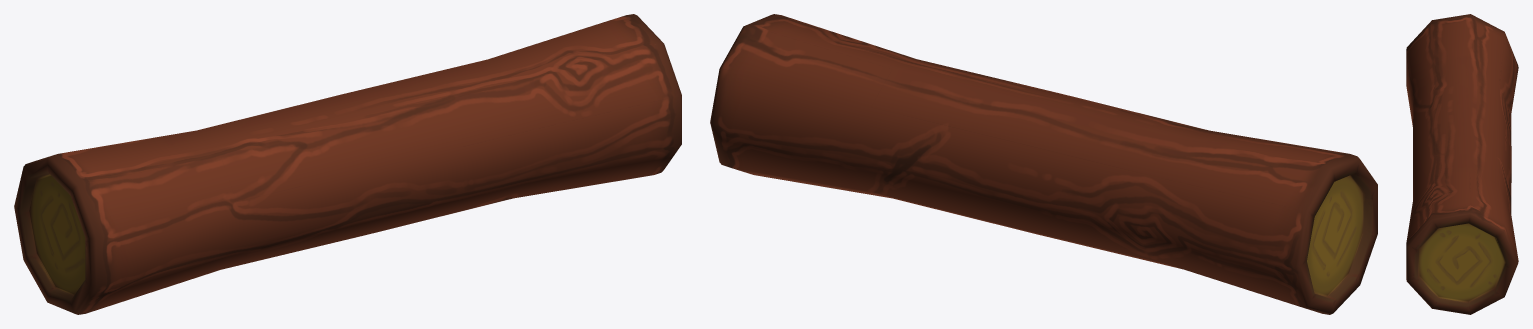
The model's file is odun 001.fbx.
3 renders of one model, left to right at view 1: azimuth 30°, elevation 25°; view 2: azimuth 150°, elevation 25°; view 3: azimuth 270°, elevation 25°, orthographic. The views are drawn at different scales.
Visible parts, largest first — view 1: Cylinder.001; view 2: Cylinder.001; view 3: Cylinder.001.
Boxes of the visible parts, bbox=[...] form: Cylinder.001: bbox=[14, 14, 681, 314]; Cylinder.001: bbox=[710, 14, 1377, 314]; Cylinder.001: bbox=[1406, 14, 1518, 314].
Size of the model in its own units: 326 by 78.43 by 77.24.
1 material, 1 textured.
